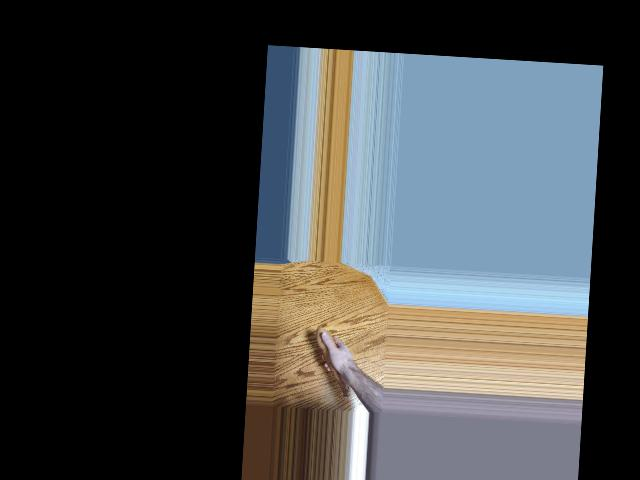sweet_potato: (313, 330, 355, 399)
